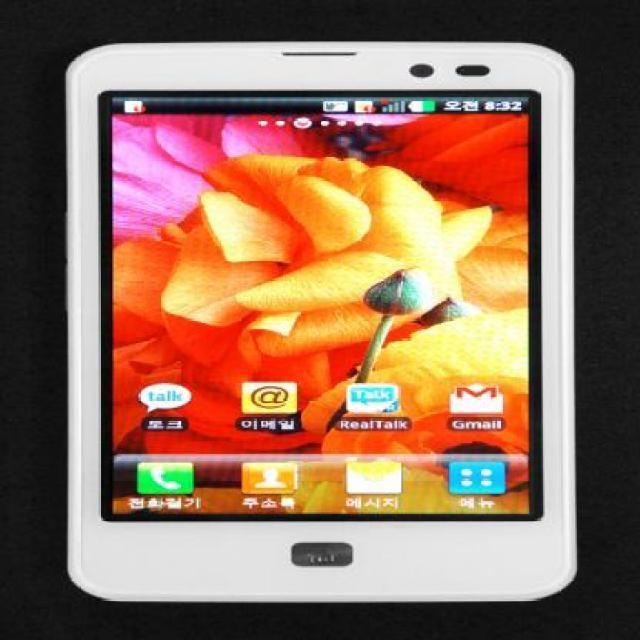phone: (49, 33, 595, 619)
